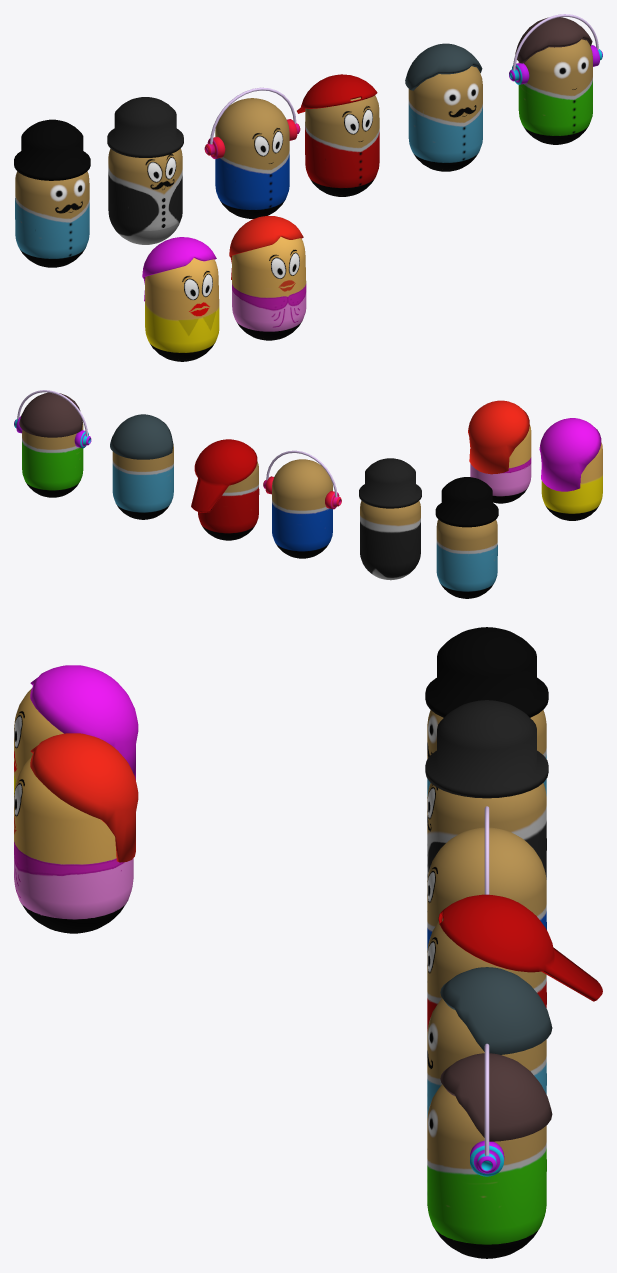
File: Characters.fbx
3 renders of one model, top to bottom at view 1: azimuth 30°, elevation 25°; view 2: azimuth 150°, elevation 25°; view 3: azimuth 270°, elevation 25°, orthographic. The views are drawn at different scales.
Visible parts, largest first — view 1: Man3, Man5, Women1, Women2, Man4, Man6, Man1, Man2, Sphere.025, Sphere.026, Sphere.004, Sphere.028 (+5 smaller); view 2: Man3, Man1, Man2, Man5, Sphere.013, Sphere.024, Man6, Sphere.028, Man4, Sphere.025, Sphere.026, Sphere.004 (+5 smaller); view 3: Man6, Women2, Sphere.026, Sphere.025, Sphere.024, Man3, Sphere.028, Sphere.004, Sphere.013, Sphere.006, Man2, Man5 (+4 smaller).
Part boxes in pixels (bbox=[...]): Man3: bbox=[215, 98, 289, 218]; Man5: bbox=[408, 66, 482, 171]; Women1: bbox=[145, 258, 219, 361]; Women2: bbox=[232, 237, 306, 340]; Man4: bbox=[305, 95, 379, 196]; Man6: bbox=[518, 39, 592, 144]; Man1: bbox=[15, 171, 89, 267]; Man2: bbox=[108, 148, 182, 244]; Sphere.025: bbox=[14, 119, 90, 180]; Sphere.026: bbox=[107, 97, 183, 157]; Sphere.004: bbox=[405, 43, 482, 90]; Sphere.028: bbox=[297, 74, 377, 113]; Man3: bbox=[272, 459, 332, 558]; Man1: bbox=[436, 519, 497, 598]; Man2: bbox=[360, 501, 420, 580]; Man5: bbox=[112, 444, 173, 519]; Sphere.013: bbox=[539, 418, 601, 491]; Sphere.024: bbox=[468, 400, 529, 474]; Man6: bbox=[22, 423, 83, 497]; Sphere.028: bbox=[191, 439, 257, 512]; Man4: bbox=[198, 461, 259, 540]; Sphere.025: bbox=[435, 477, 498, 527]; Sphere.026: bbox=[359, 458, 421, 508]; Sphere.004: bbox=[110, 414, 173, 459]; Man6: bbox=[427, 1084, 546, 1258]; Women2: bbox=[14, 756, 133, 933]; Sphere.026: bbox=[425, 700, 548, 798]; Sphere.025: bbox=[425, 627, 548, 717]; Sphere.024: bbox=[30, 733, 138, 862]; Man3: bbox=[427, 827, 546, 950]; Sphere.028: bbox=[438, 894, 602, 1001]; Sphere.004: bbox=[440, 967, 552, 1054]; Sphere.013: bbox=[30, 665, 138, 779]; Sphere.006: bbox=[440, 1053, 552, 1141]; Man2: bbox=[427, 783, 546, 879]; Man5: bbox=[427, 998, 546, 1117].
Bounding box in the file's own units: 3114 × 721 × 1702.
